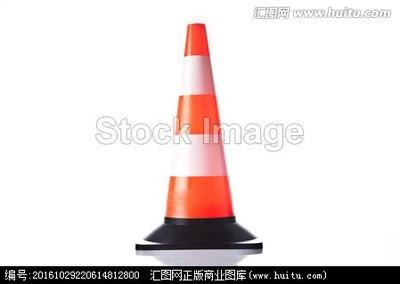cone_barrel: (146, 24, 250, 245)
